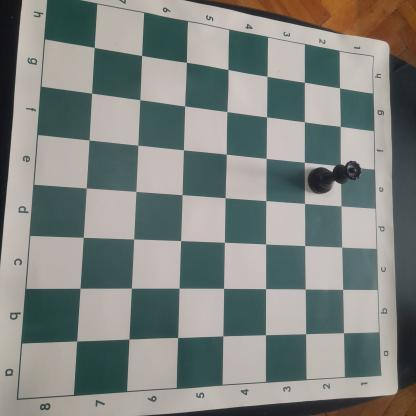black-queen: (306, 160, 363, 196)
